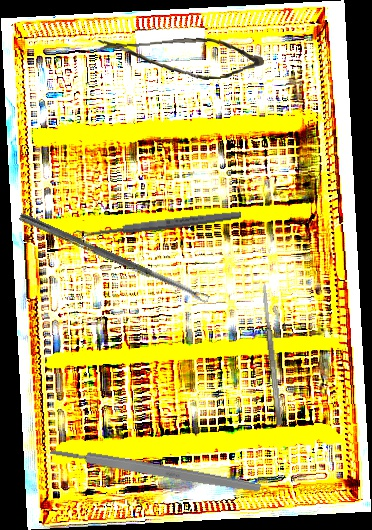Micro Scissor: (94, 25, 265, 90)
Scalpel Handle: (49, 444, 262, 495)
Spatula Surgical: (260, 283, 284, 427)
Surgical Spoon: (18, 212, 210, 305), (73, 209, 242, 241)
